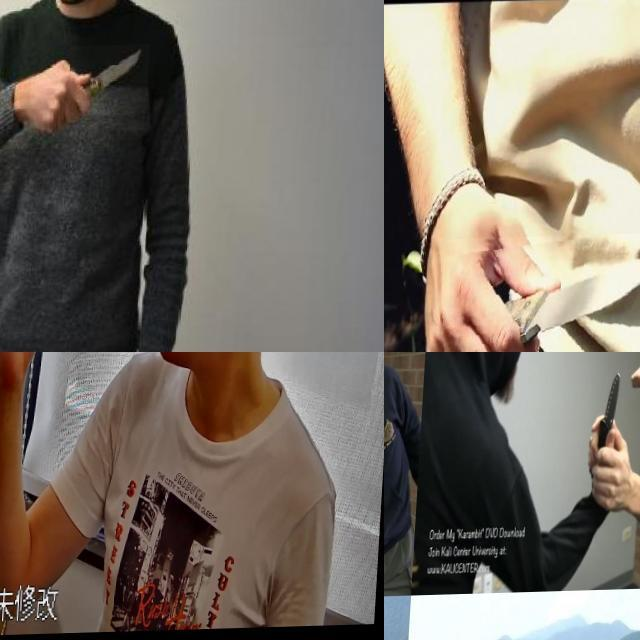-: (440, 235, 640, 352), (72, 46, 154, 118), (586, 369, 624, 478), (384, 394, 394, 450)
gun-knife-thesis - v11 Yolov5 augmented: (0, 352, 66, 487)
